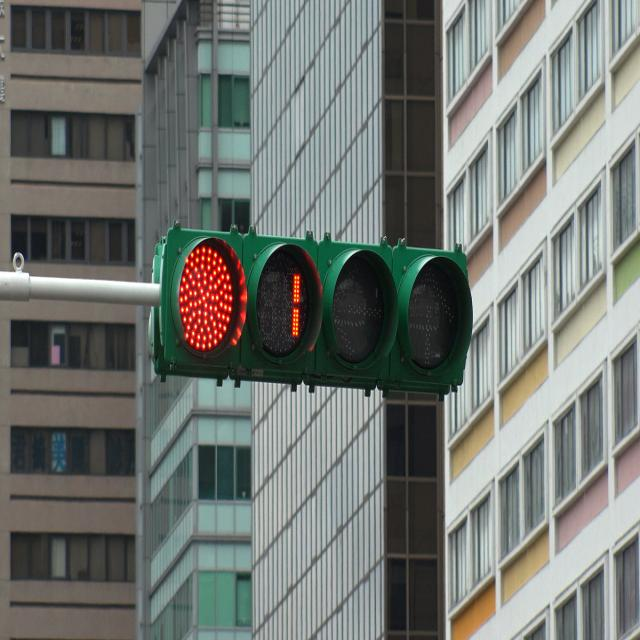red light: (150, 218, 472, 396)
